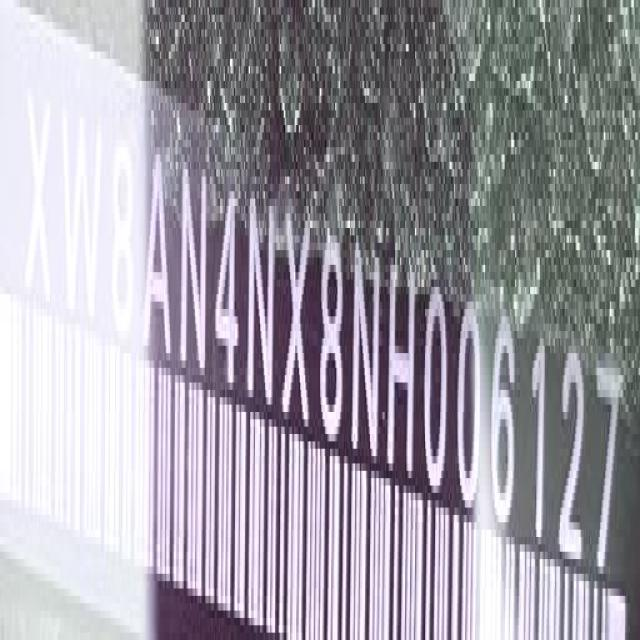0: (456, 300, 484, 524), (424, 280, 451, 504)
1: (527, 333, 548, 554)
2: (558, 344, 586, 570)
4: (213, 172, 242, 400)
6: (491, 316, 518, 538)
7: (596, 354, 625, 587)
8: (318, 216, 344, 452), (110, 142, 134, 346)
A: (146, 140, 174, 366)
H: (385, 253, 420, 504)
N: (179, 160, 210, 390), (248, 189, 277, 420), (352, 242, 380, 472)
W: (62, 102, 106, 336)
X: (281, 201, 312, 435), (26, 69, 54, 308)
